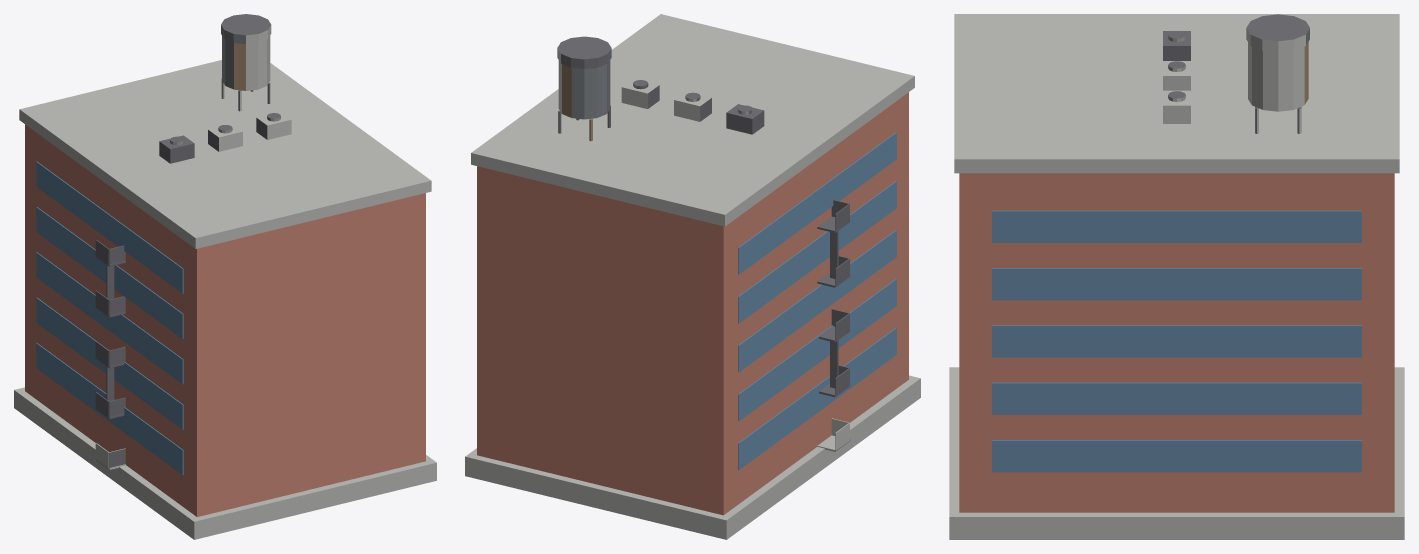
File: apartment_block_brick_5s.glb
3 views of the same model, side by side, from view 1: azimuth 30°, elevation 25°; view 2: azimuth 150°, elevation 25°; view 3: azimuth 270°, elevation 25° (orthographic). The views are drawn at different scales.
Visible parts, largest first — view 1: apartment_block_brick_5s; view 2: apartment_block_brick_5s; view 3: apartment_block_brick_5s.
Boxes of the visible parts, x1,y1,x2,y2 form: apartment_block_brick_5s: (14,14,436,539); apartment_block_brick_5s: (465,14,920,539); apartment_block_brick_5s: (949,14,1404,539).
Size of the model in its own units: 14.58 by 20.7 by 18.
